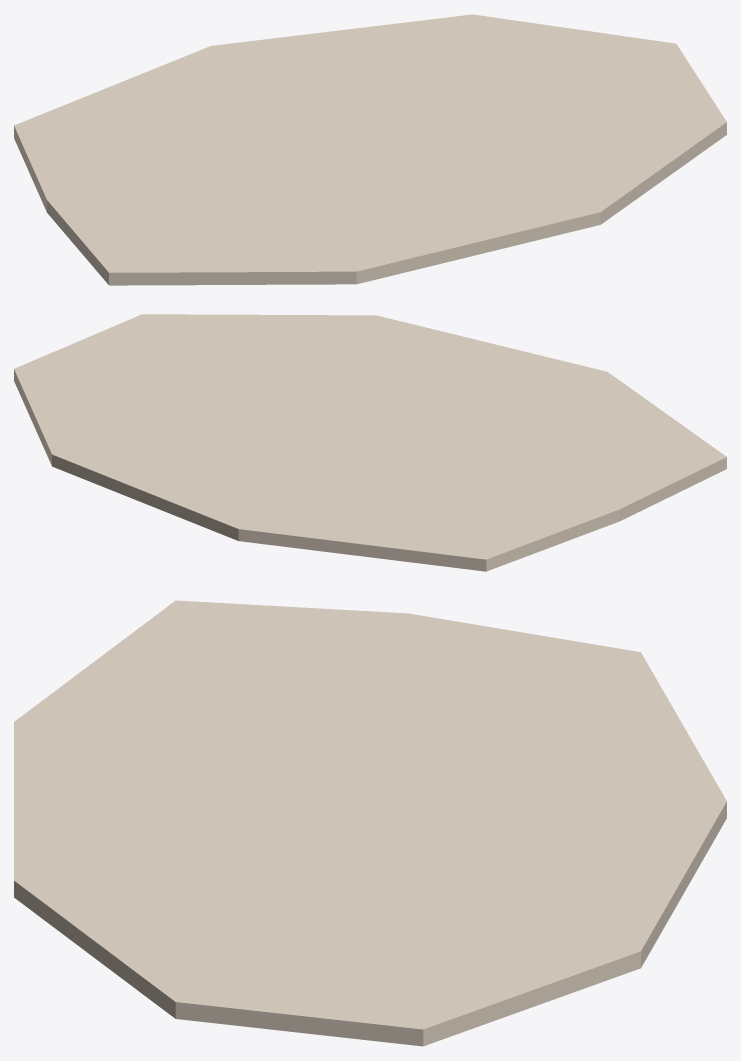
The model's file is wrap.glb.
3 renders of one model, top to bottom at view 1: azimuth 30°, elevation 25°; view 2: azimuth 150°, elevation 25°; view 3: azimuth 270°, elevation 25°, orthographic. The views are drawn at different scales.
Parts seen in each view (by area): view 1: Cylinder; view 2: Cylinder; view 3: Cylinder.
Boxes of the visible parts, left/top/right/bottom form: Cylinder: left=14, top=14, right=726, bottom=285; Cylinder: left=14, top=314, right=726, bottom=571; Cylinder: left=14, top=600, right=726, bottom=1046.
Bounding box in the file's own units: 0.627 × 0.0147 × 0.4403.
